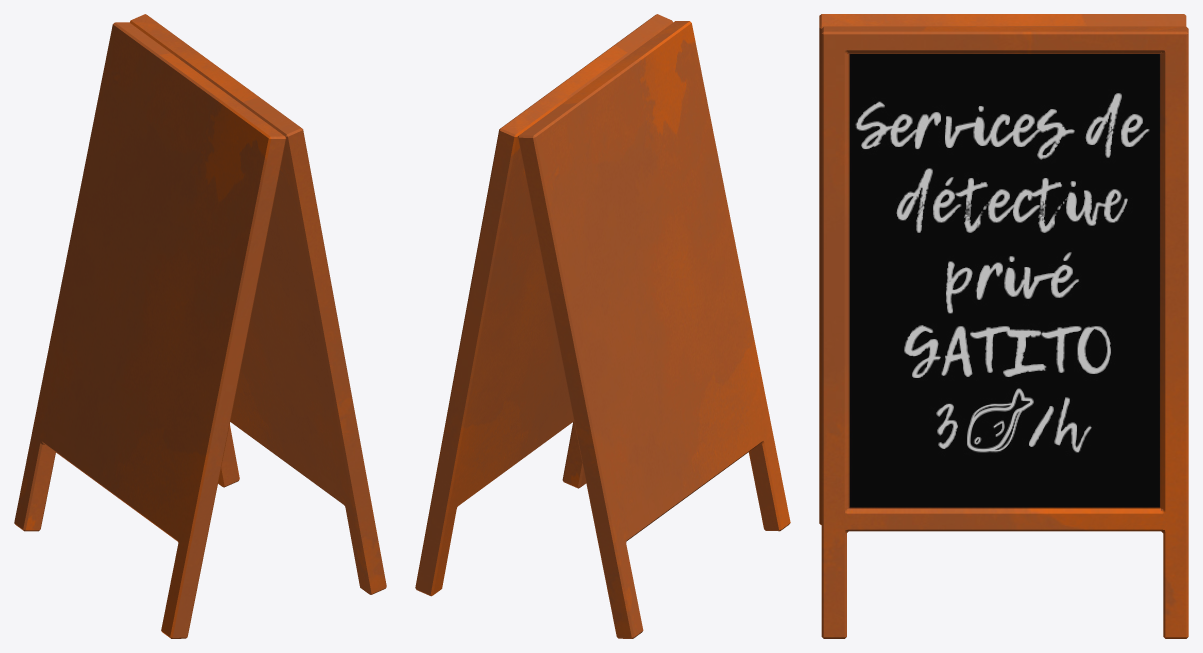
The model's file is panneauGatito.fbx.
3 views of the same model, side by side, from view 1: azimuth 30°, elevation 25°; view 2: azimuth 150°, elevation 25°; view 3: azimuth 270°, elevation 25° (orthographic). The views are drawn at different scales.
Parts seen in each view (by area): view 1: panneau1, panneau; view 2: panneau1, panneau; view 3: panneau, panneau1.
Boxes of the visible parts, x1,y1,x2,y2 form: panneau1: [14, 22, 286, 638]; panneau: [129, 14, 386, 594]; panneau1: [518, 21, 790, 638]; panneau: [415, 14, 672, 596]; panneau: [821, 26, 1188, 638]; panneau1: [819, 14, 1186, 524].
Bounding box in the file's own units: 4.7 × 10 × 5.94.
